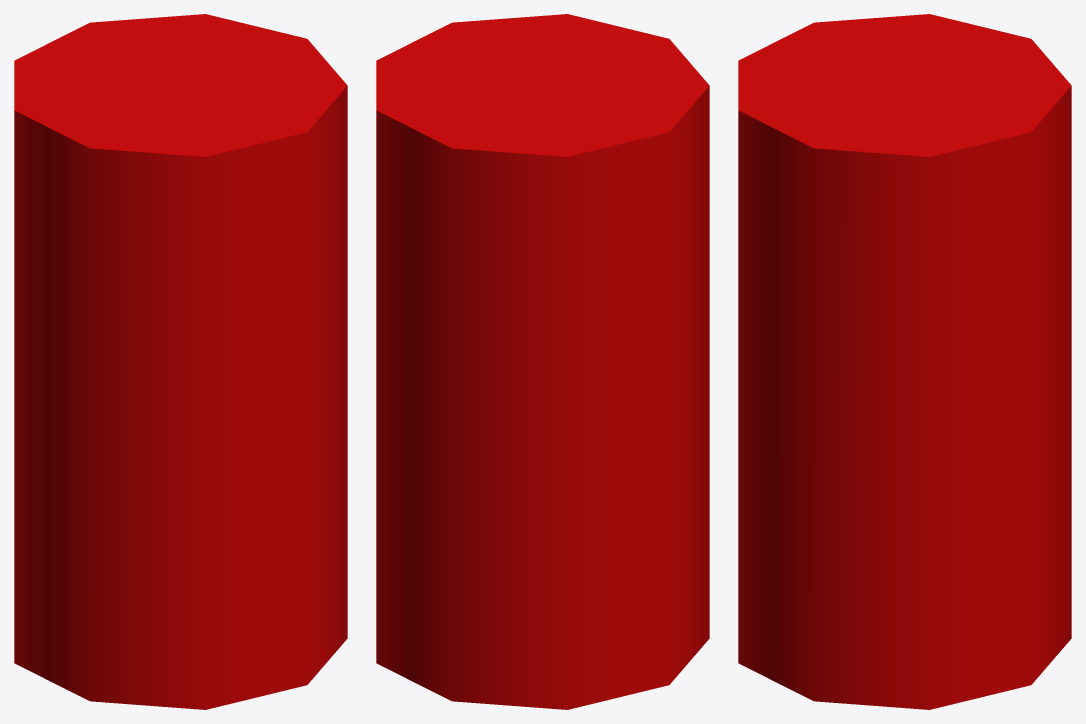
Rendered from Attic_CableAttachment_01_LP.glb.
The picture shows the model from 3 angles, left to right: view 1: azimuth 30°, elevation 25°; view 2: azimuth 150°, elevation 25°; view 3: azimuth 270°, elevation 25°; orthographic projection.
Visible parts, largest first — view 1: Attic_CableAttachment_01_LP; view 2: Attic_CableAttachment_01_LP; view 3: Attic_CableAttachment_01_LP.
Part boxes in pixels (left/top/right/bottom): Attic_CableAttachment_01_LP: left=14, top=14, right=347, bottom=709; Attic_CableAttachment_01_LP: left=376, top=14, right=709, bottom=709; Attic_CableAttachment_01_LP: left=738, top=14, right=1071, bottom=709.
Bounding box in the file's own units: 0.0364 × 0.0656 × 0.0358.
